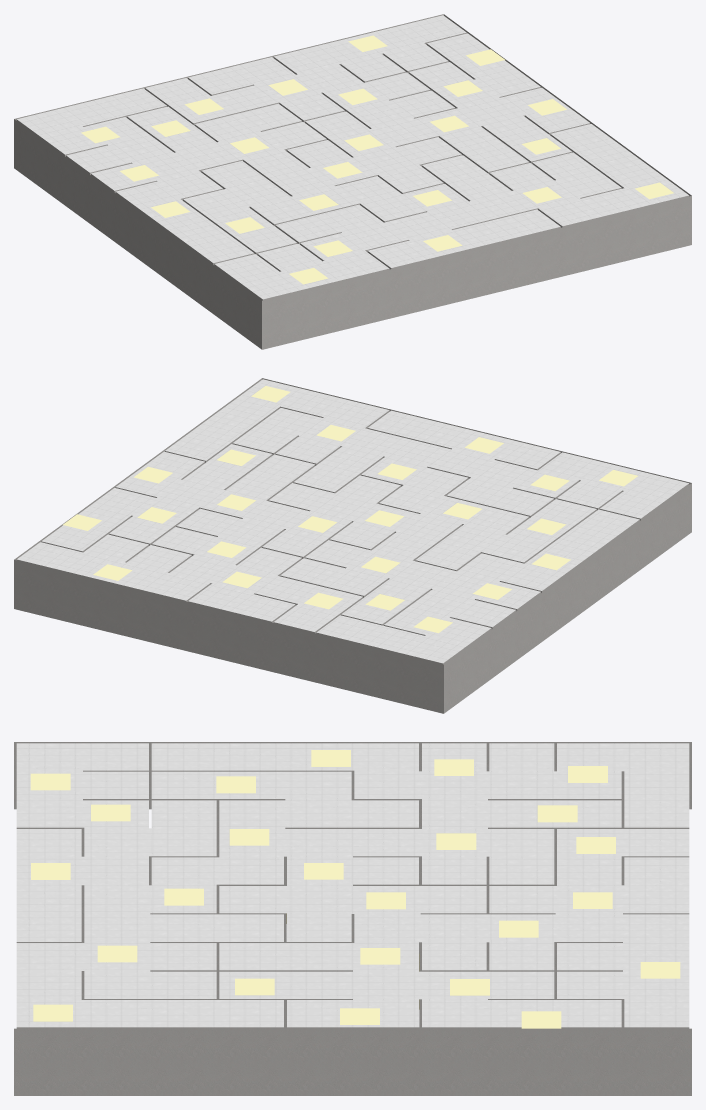
File: backrooms.optimized.glb
The picture shows the model from 3 angles, top to bottom: view 1: azimuth 30°, elevation 25°; view 2: azimuth 150°, elevation 25°; view 3: azimuth 270°, elevation 25°; orthographic projection. The views are drawn at different scales.
Visible parts, largest first — view 1: room, light; view 2: room, light; view 3: room, light.
Boxes of the visible parts, x1,y1,x2,y2 form: room: [14, 14, 691, 349]; light: [81, 35, 673, 284]; room: [14, 378, 691, 713]; light: [63, 386, 637, 633]; room: [14, 742, 691, 1095]; light: [30, 750, 680, 1028].
Bounding box in the file's own units: 34.07 × 3.73 × 34.07.
Materials: 4 (3 with a texture image).
